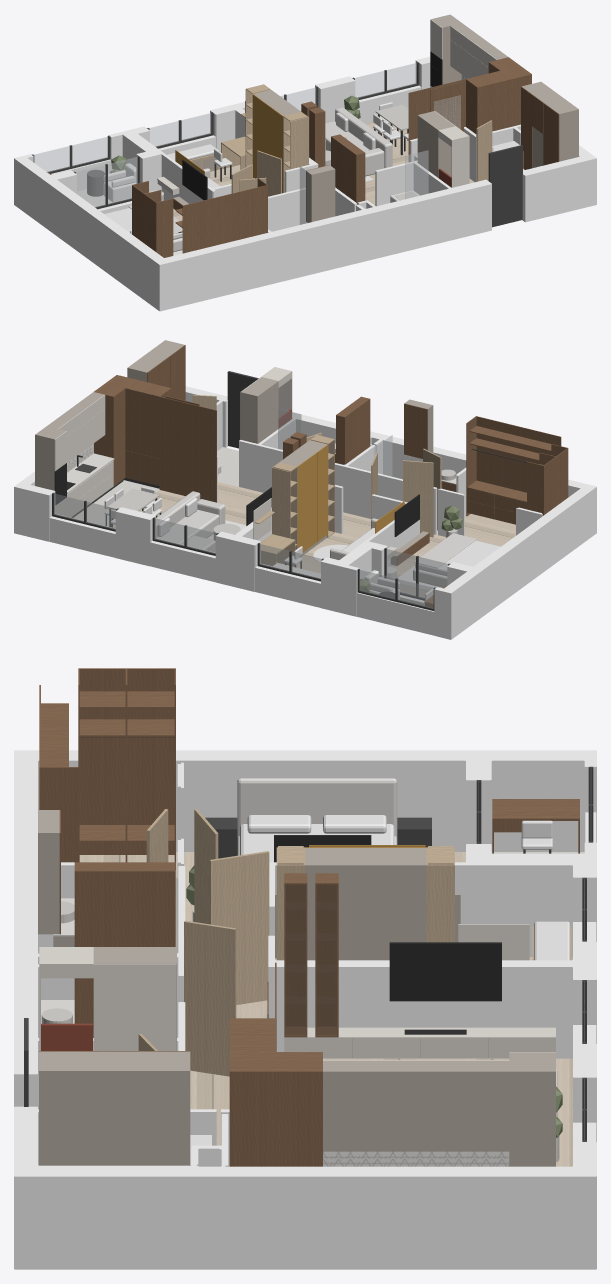
Rendered from mytishchi-astakhova.glb.
3 views of the same model, one above another, from view 1: azimuth 30°, elevation 25°; view 2: azimuth 150°, elevation 25°; view 3: azimuth 270°, elevation 25° (orthographic). The views are drawn at different scales.
Visible parts, largest first — view 1: walls, kitchen-01, wardrobe-system-01, wardrobe-02, utility-cabinet-01, wardrobe-01, door-entrance, loggia-door-glass, sofa, bath-cabinet-02, bath-cabinet-01, loggia-glass (+23 smaller); view 2: walls, kitchen-01, wardrobe-system-01, wardrobe-02, wall-panel-01, wardrobe-01, sofa, bed, utility-cabinet-01, loggia-door-glass, loggia-sill, bath-cabinet-02 (+30 smaller); view 3: walls, kitchen-01, wardrobe-system-01, utility-cabinet-01, tv-stand-01, wardrobe-02, wardrobe-01, bed, bath-cabinet-02, door-bath-2, door-kids, tv (+13 smaller).
Boxes of the visible parts, x1=… form: walls: x1=14, y1=56, x2=596, y2=311; kitchen-01: x1=430, y1=14, x2=531, y2=133; wardrobe-system-01: x1=132, y1=178, x2=267, y2=257; wardrobe-02: x1=245, y1=84, x2=308, y2=193; utility-cabinet-01: x1=521, y1=81, x2=578, y2=169; wardrobe-01: x1=417, y1=111, x2=469, y2=187; door-entrance: x1=488, y1=145, x2=522, y2=227; loggia-door-glass: x1=76, y1=157, x2=137, y2=207; sofa: x1=325, y1=107, x2=392, y2=176; bath-cabinet-02: x1=331, y1=134, x2=365, y2=204; bath-cabinet-01: x1=306, y1=165, x2=335, y2=222; loggia-glass: x1=34, y1=136, x2=108, y2=172; walls: x1=14, y1=386, x2=596, y2=639; kitchen-01: x1=35, y1=375, x2=171, y2=517; wardrobe-system-01: x1=466, y1=416, x2=568, y2=524; wardrobe-02: x1=272, y1=435, x2=334, y2=557; wall-panel-01: x1=159, y1=396, x2=216, y2=502; wardrobe-01: x1=240, y1=367, x2=292, y2=443; sofa: x1=156, y1=491, x2=225, y2=552; bed: x1=413, y1=533, x2=500, y2=587; utility-cabinet-01: x1=127, y1=340, x2=185, y2=400; loggia-door-glass: x1=386, y1=549, x2=447, y2=597; loggia-sill: x1=356, y1=592, x2=434, y2=635; bath-cabinet-02: x1=336, y1=396, x2=370, y2=464; walls: x1=14, y1=750, x2=596, y2=1269; kitchen-01: x1=229, y1=1018, x2=555, y2=1166; wardrobe-system-01: x1=39, y1=668, x2=175, y2=870; utility-cabinet-01: x1=39, y1=1051, x2=190, y2=1165; tv-stand-01: x1=284, y1=873, x2=555, y2=1058; wardrobe-02: x1=276, y1=846, x2=454, y2=960; wardrobe-01: x1=39, y1=947, x2=176, y2=1051; bed: x1=237, y1=778, x2=397, y2=862; bath-cabinet-02: x1=74, y1=862, x2=175, y2=1037; door-bath-2: x1=184, y1=920, x2=236, y2=1076; door-kids: x1=210, y1=851, x2=269, y2=1004; tv: x1=389, y1=942, x2=501, y2=1001.
Size of the model in its own units: 12.98 by 2.68 by 7.51.
19 materials, 5 textured.
